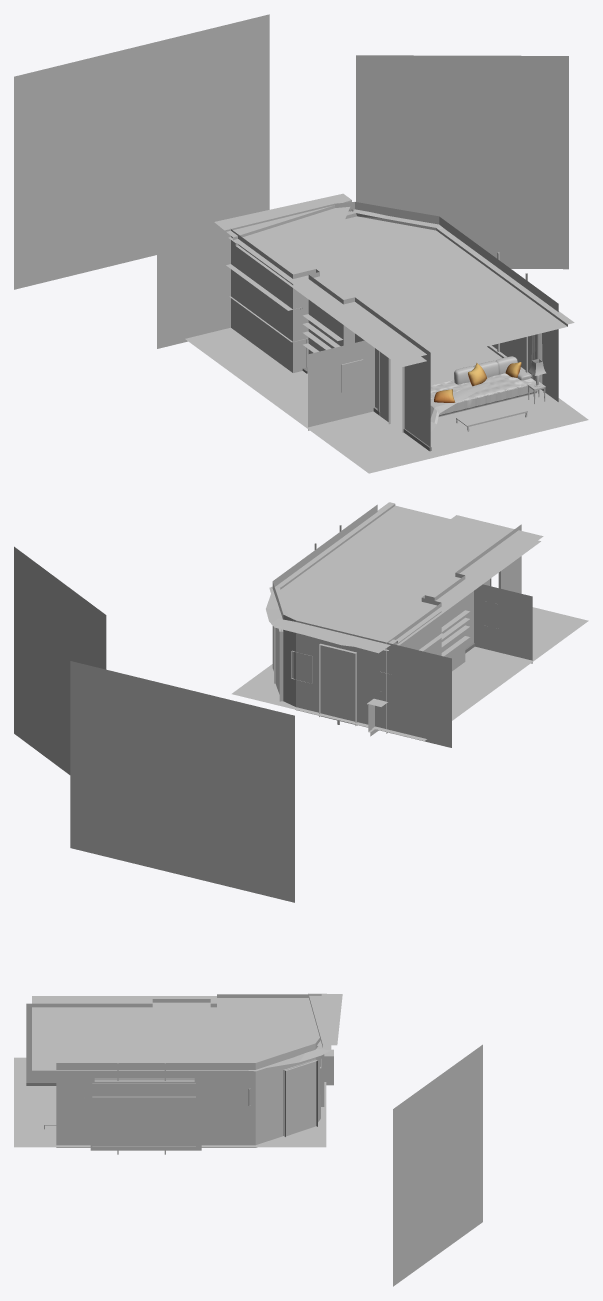
The model's file is NvMingXingJia_02.FBX.
3 renders of one model, top to bottom at view 1: azimuth 30°, elevation 25°; view 2: azimuth 150°, elevation 25°; view 3: azimuth 270°, elevation 25°, orthographic. The views are drawn at different scales.
Parts seen in each view (by area): view 1: Object090, Plane007, Object084, objoct009, Plane013, Plane012, Plane011, Object075, default001, 021, Object073, Object080 (+5 smaller); view 2: Object090, Object084, Plane007, Plane011, Plane013, objoct009, Plane012, Object075, Object091, Box029; view 3: Plane007, Plane011, Object084, Object091, Plane013, objoct009, Plane012, 021.
Part boxes in pixels (box(x1,y1,x2,y2)): Object090: box(14, 14, 269, 289); Plane007: box(356, 55, 568, 269); Object084: box(214, 193, 497, 361); objoct009: box(185, 327, 588, 473); Plane013: box(228, 209, 574, 367); Plane012: box(231, 229, 430, 447); Plane011: box(157, 202, 558, 401); Object075: box(308, 340, 374, 430); default001: box(430, 373, 537, 416); 021: box(438, 397, 550, 438); Object073: box(377, 350, 390, 424); Object080: box(454, 356, 530, 384); Object090: box(70, 661, 294, 902); Object084: box(271, 515, 543, 653); Plane007: box(14, 546, 106, 774); Plane011: box(272, 504, 451, 747); Plane013: box(266, 502, 540, 650); objoct009: box(232, 607, 588, 740); Plane012: box(386, 524, 521, 733); Object075: box(474, 584, 532, 663); Object091: box(275, 628, 357, 725); Box029: box(441, 610, 469, 656); Plane007: box(393, 1044, 482, 1286); Plane011: box(56, 1037, 324, 1147); Object084: box(32, 993, 342, 1047); Object091: box(90, 1059, 316, 1150); Plane013: box(32, 1036, 331, 1071); objoct009: box(14, 1057, 326, 1147); Plane012: box(26, 994, 321, 1082); 021: box(34, 1100, 56, 1136).
Size of the model in its own units: 10036 by 4490 by 13169.
